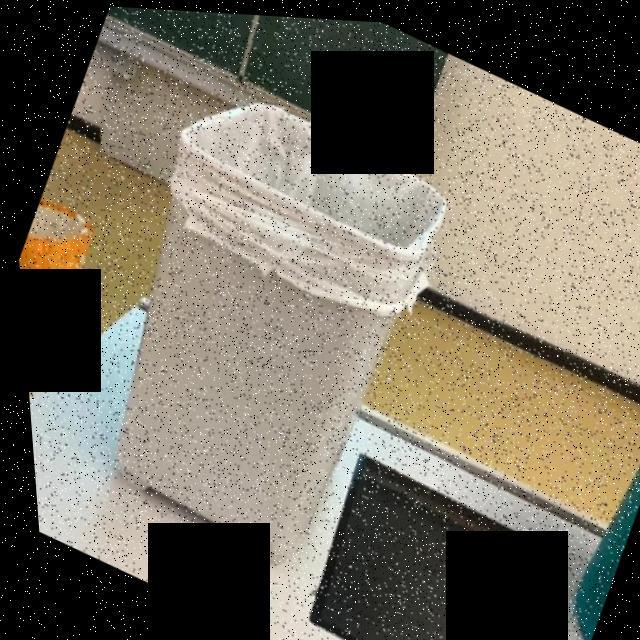bin: (0, 0, 540, 640), (489, 238, 640, 640)
